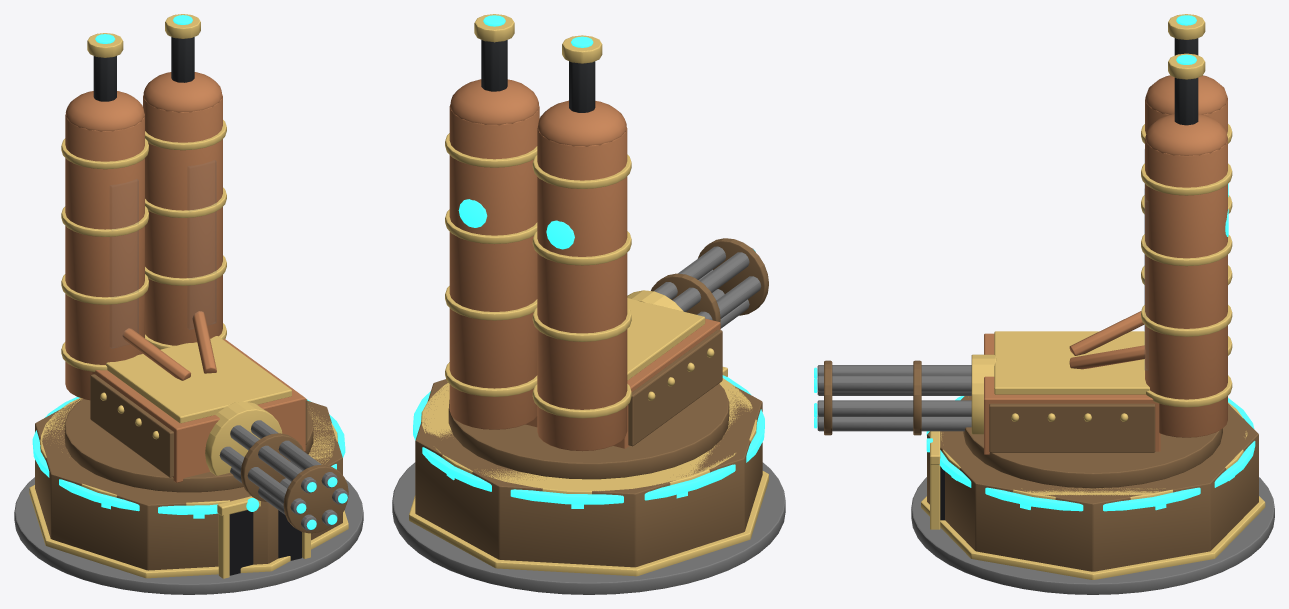
The model's file is Machinegoon_T2_Pepperbox.glb.
3 renders of one model, left to right at view 1: azimuth 30°, elevation 25°; view 2: azimuth 150°, elevation 25°; view 3: azimuth 270°, elevation 25°, orthographic. The views are drawn at different scales.
Parts seen in each view (by area): view 1: Machinegoon_T2_Pepperbox_Turret, Machinegoon_T2_Pepperbox_Base; view 2: Machinegoon_T2_Pepperbox_Turret, Machinegoon_T2_Pepperbox_Base; view 3: Machinegoon_T2_Pepperbox_Turret, Machinegoon_T2_Pepperbox_Base.
Part boxes in pixels (x1,y1,x2,y2): Machinegoon_T2_Pepperbox_Turret: [61, 14, 348, 533]; Machinegoon_T2_Pepperbox_Base: [14, 397, 363, 594]; Machinegoon_T2_Pepperbox_Turret: [445, 14, 768, 479]; Machinegoon_T2_Pepperbox_Base: [392, 367, 785, 594]; Machinegoon_T2_Pepperbox_Turret: [814, 14, 1232, 488]; Machinegoon_T2_Pepperbox_Base: [911, 396, 1274, 594].
Size of the model in its own units: 3.5 by 5.09 by 4.44.
